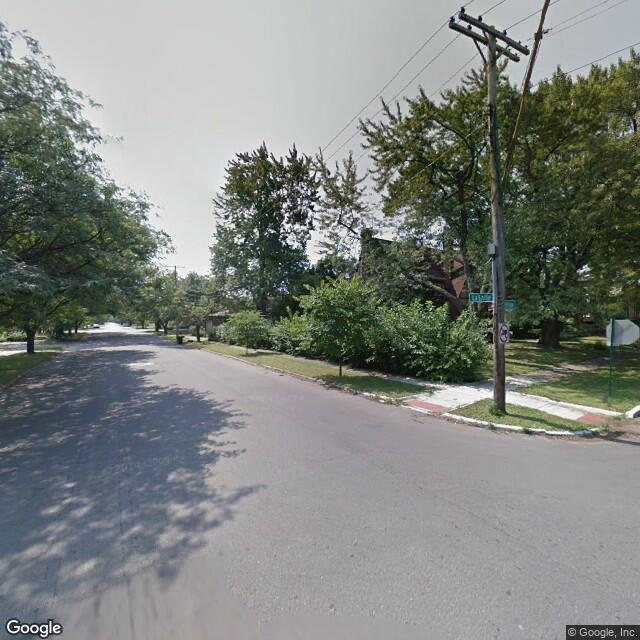litter: (376, 397, 387, 404), (279, 372, 284, 377), (452, 420, 458, 424)
